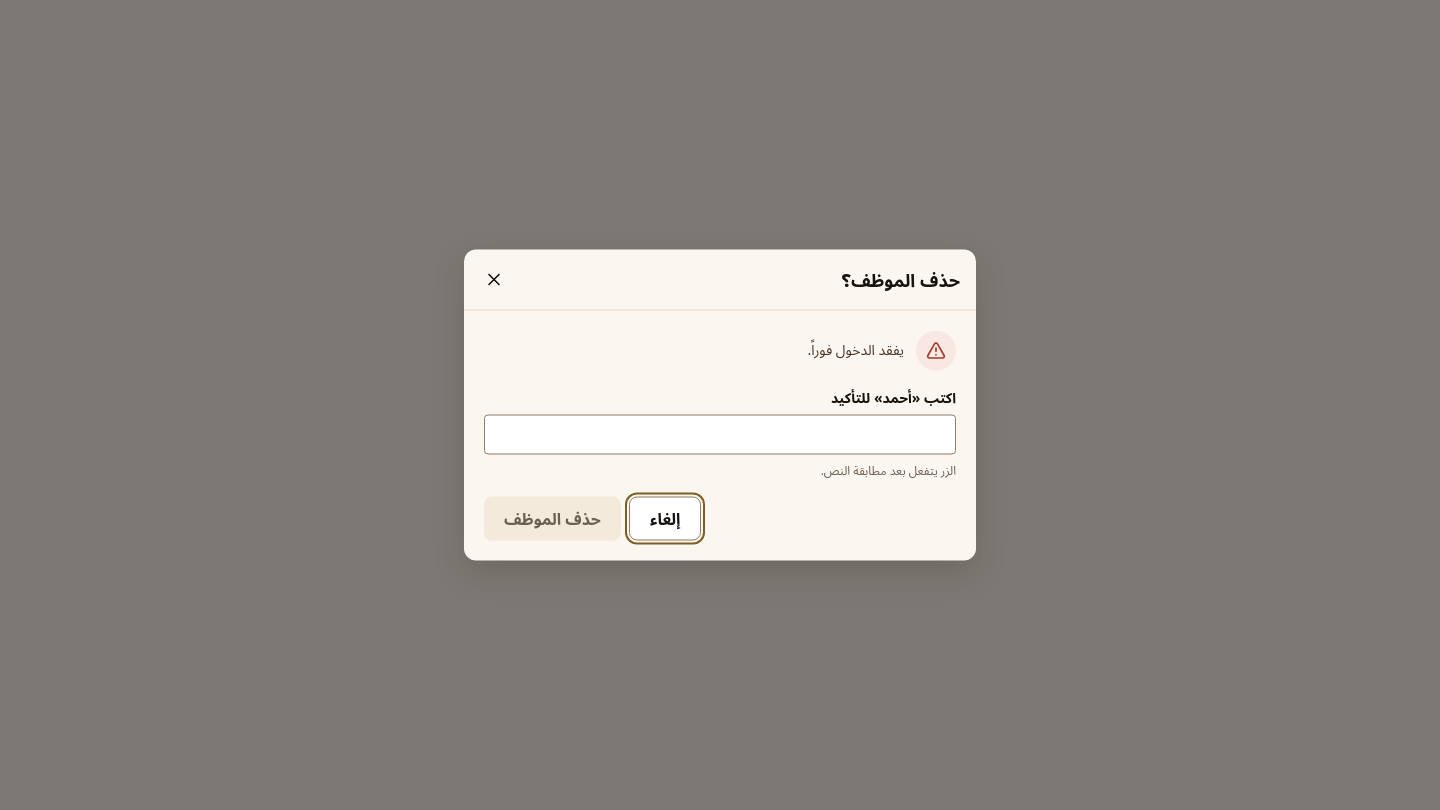
Test: ConfirmDialog › is an alertdialog, focus starts on Cancel, typed confirmation unlocks the action
Later steps or results of the test are not shown.
expect the button "حذف الموظف" is disabled: met, box [484,496,621,540]
In the field labelled "اكتب «أحمد» للتأكيد": (720, 434) [484,414,956,454], type "أحمد"
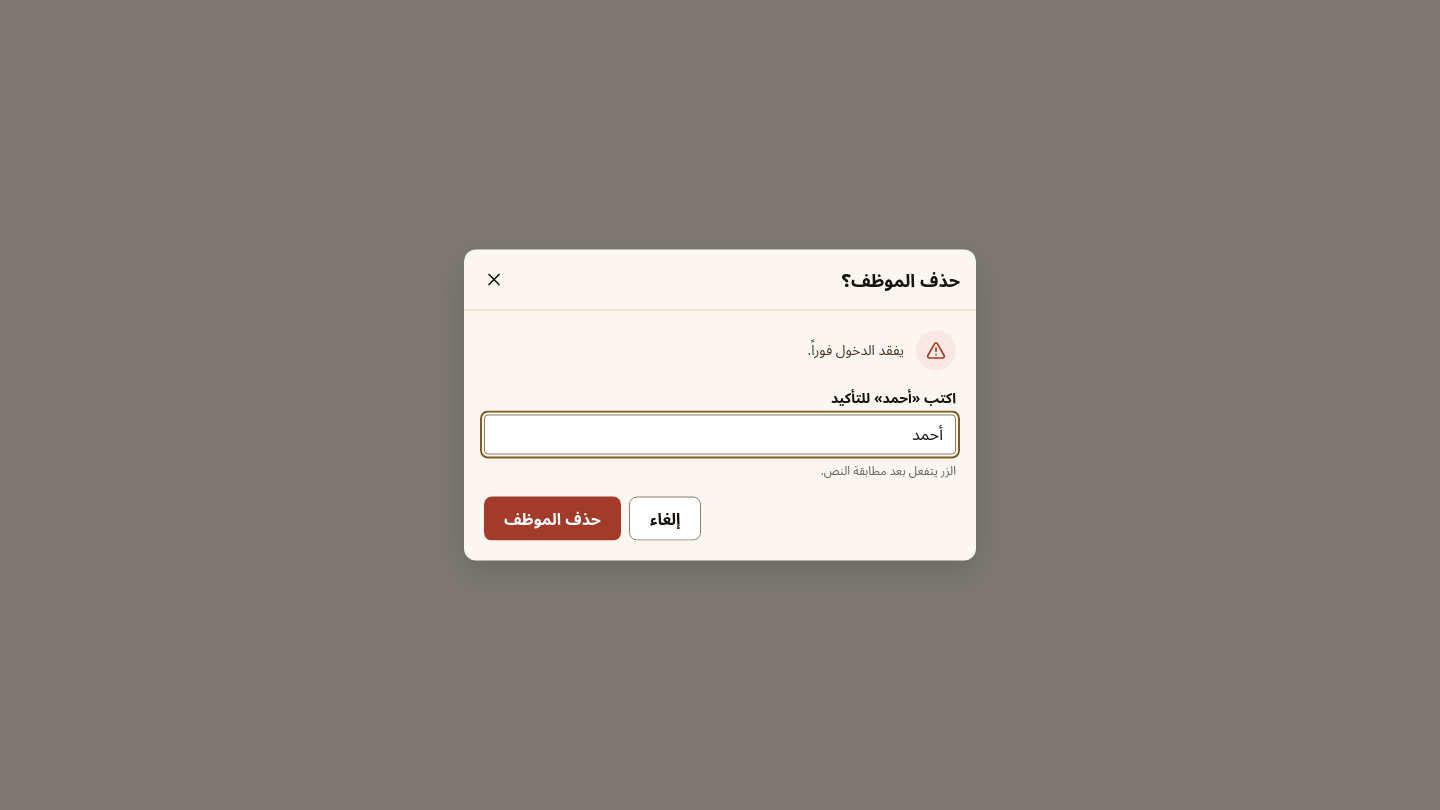
expect the button "حذف الموظف" is enabled: met, box [484,496,621,540]
